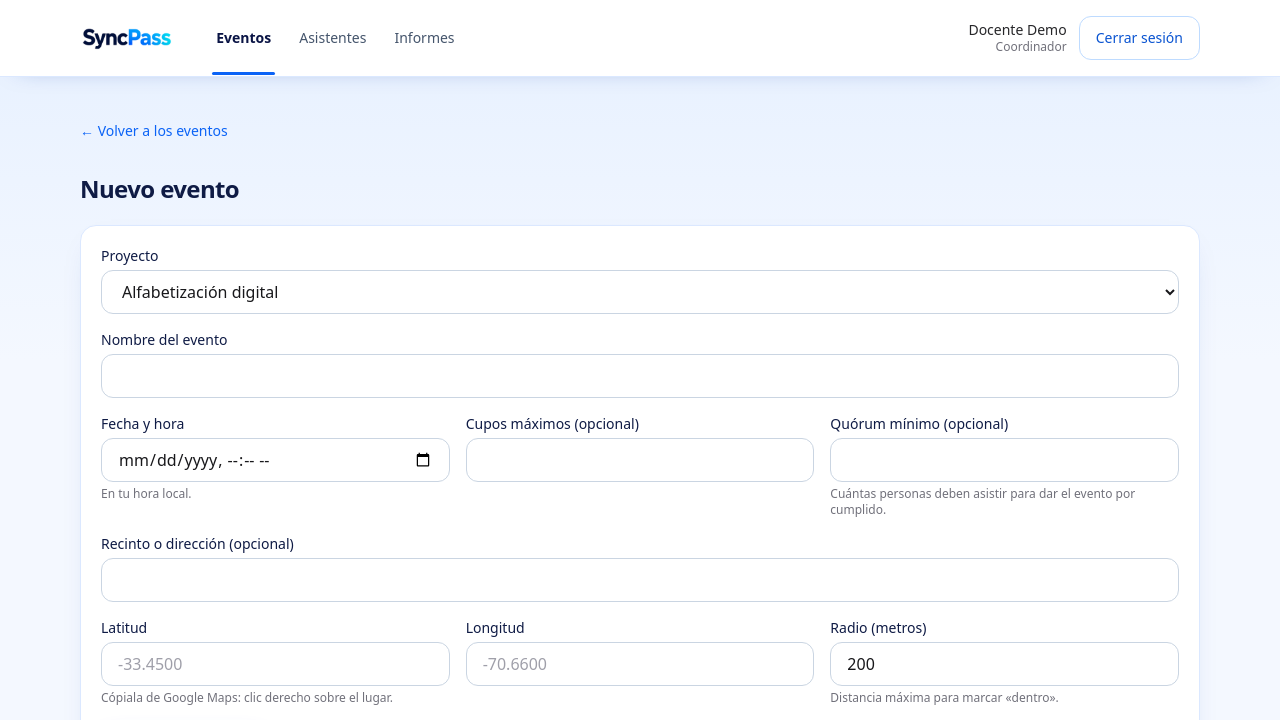
formulario de evento › rechaza solo la latitud antes de enviar
The width and height of the screenshot is (1280, 720).
Type "Taller" into the field labelled "Nombre del evento" at (640, 376), box [101,354,1179,398]
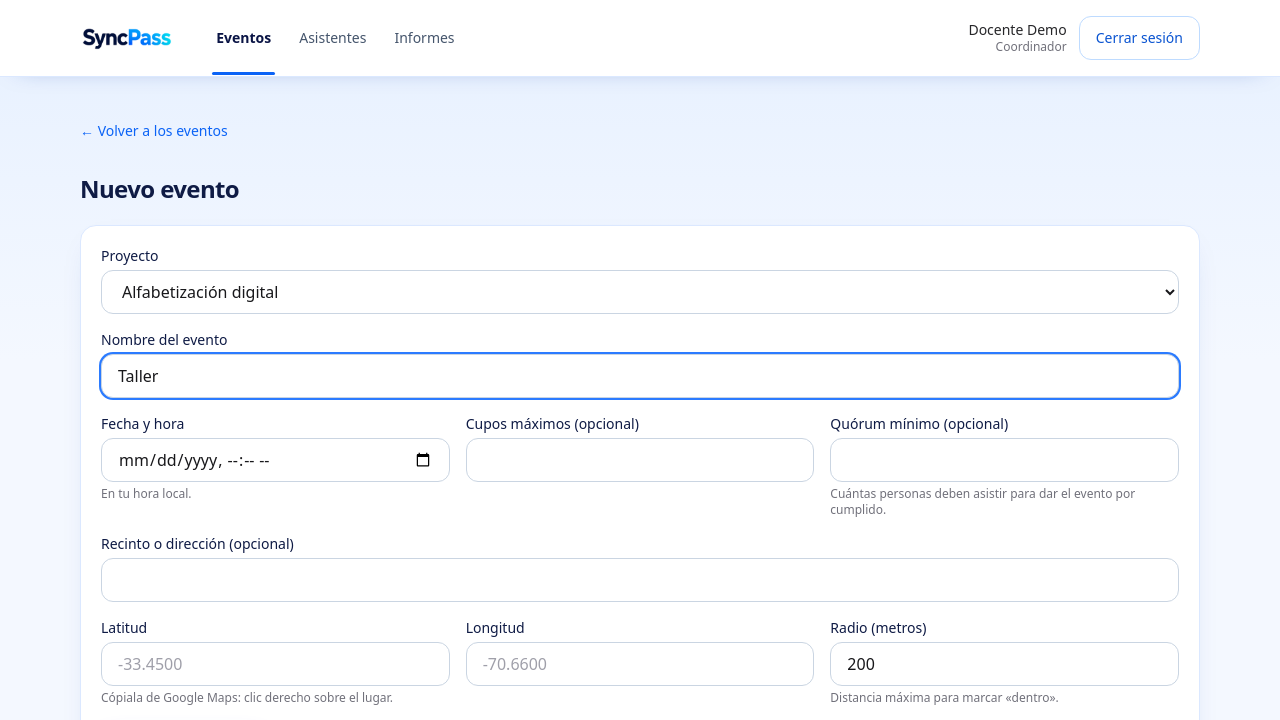
Type "2026-11-20T15:00" into the field labelled "Fecha y hora" at (275, 460), box [101,438,450,482]
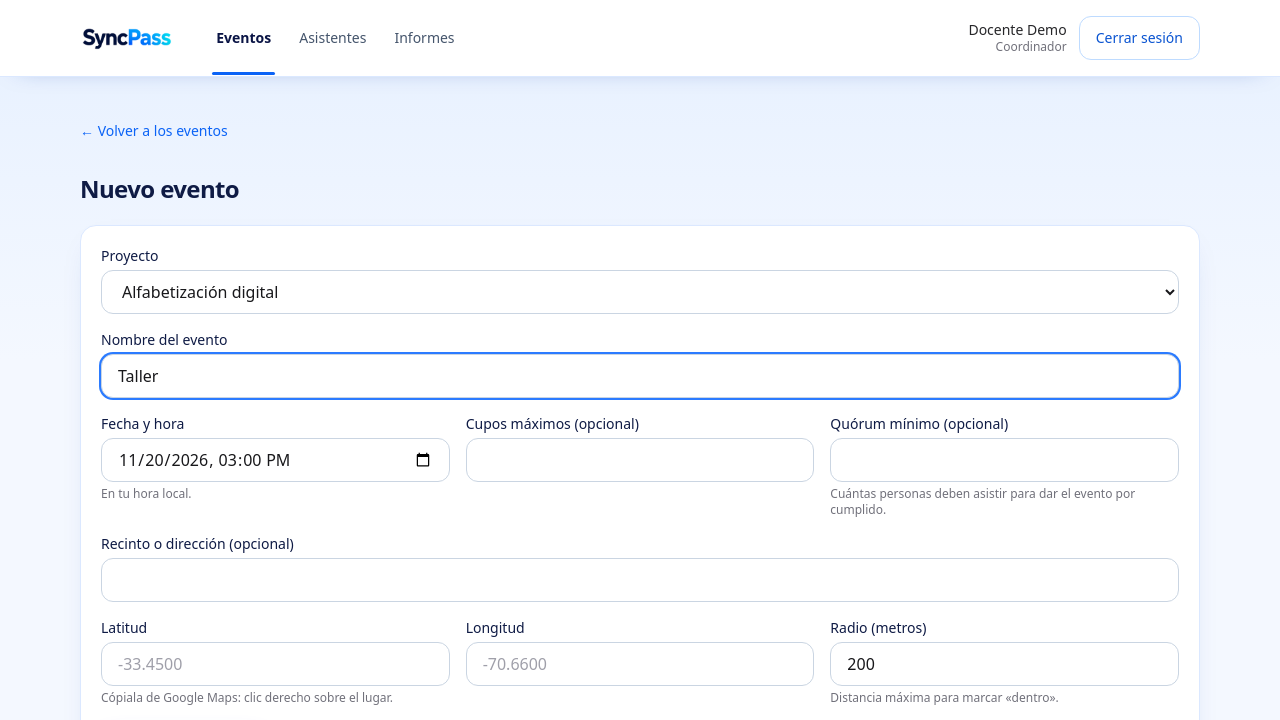
Type "-33.45" into the field labelled "Latitud" at (275, 664), box [101,642,450,686]
(page scrolled)
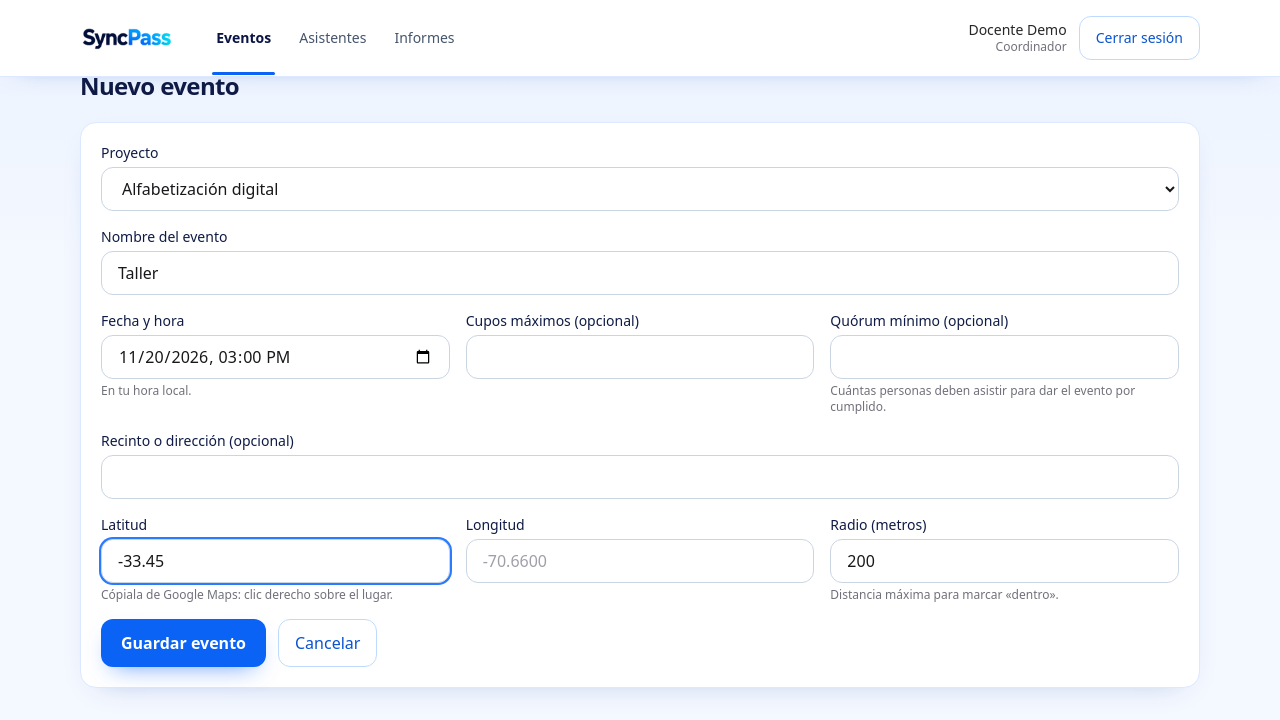
Click the button "Guardar evento" at (184, 643), box [101,619,266,667]
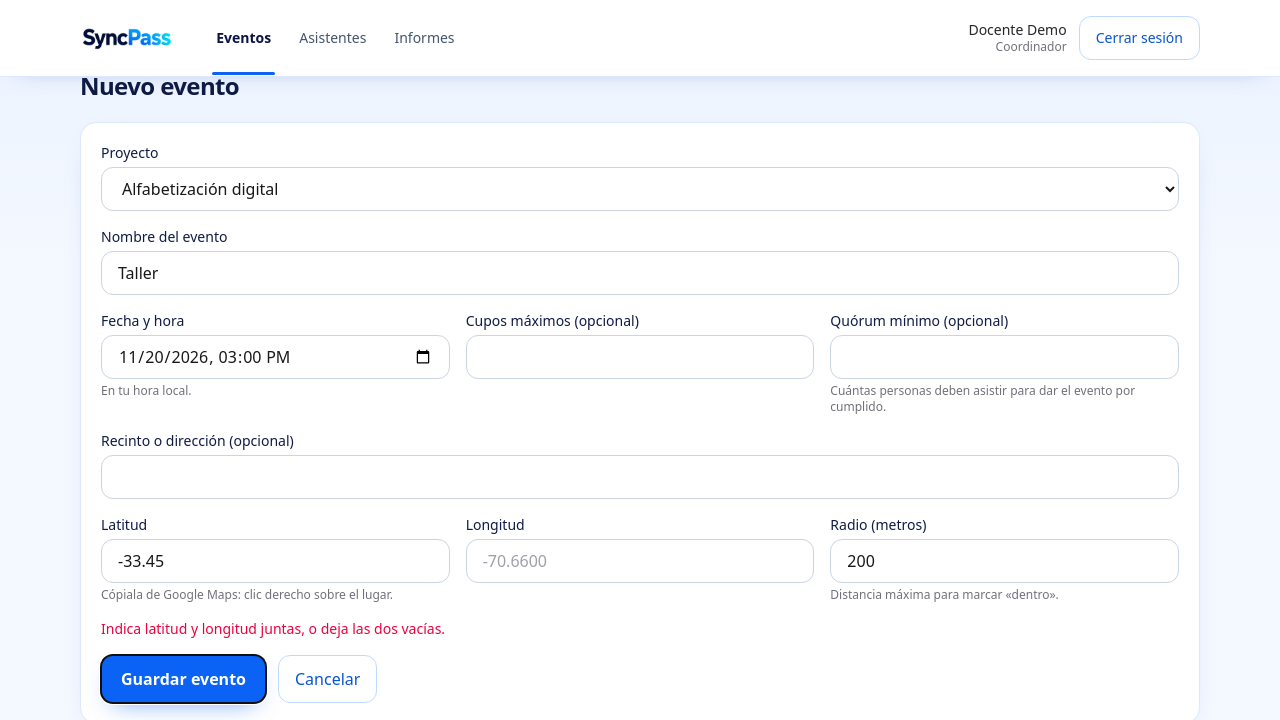
Expected: the message shows "juntas", [101,619,445,638]
